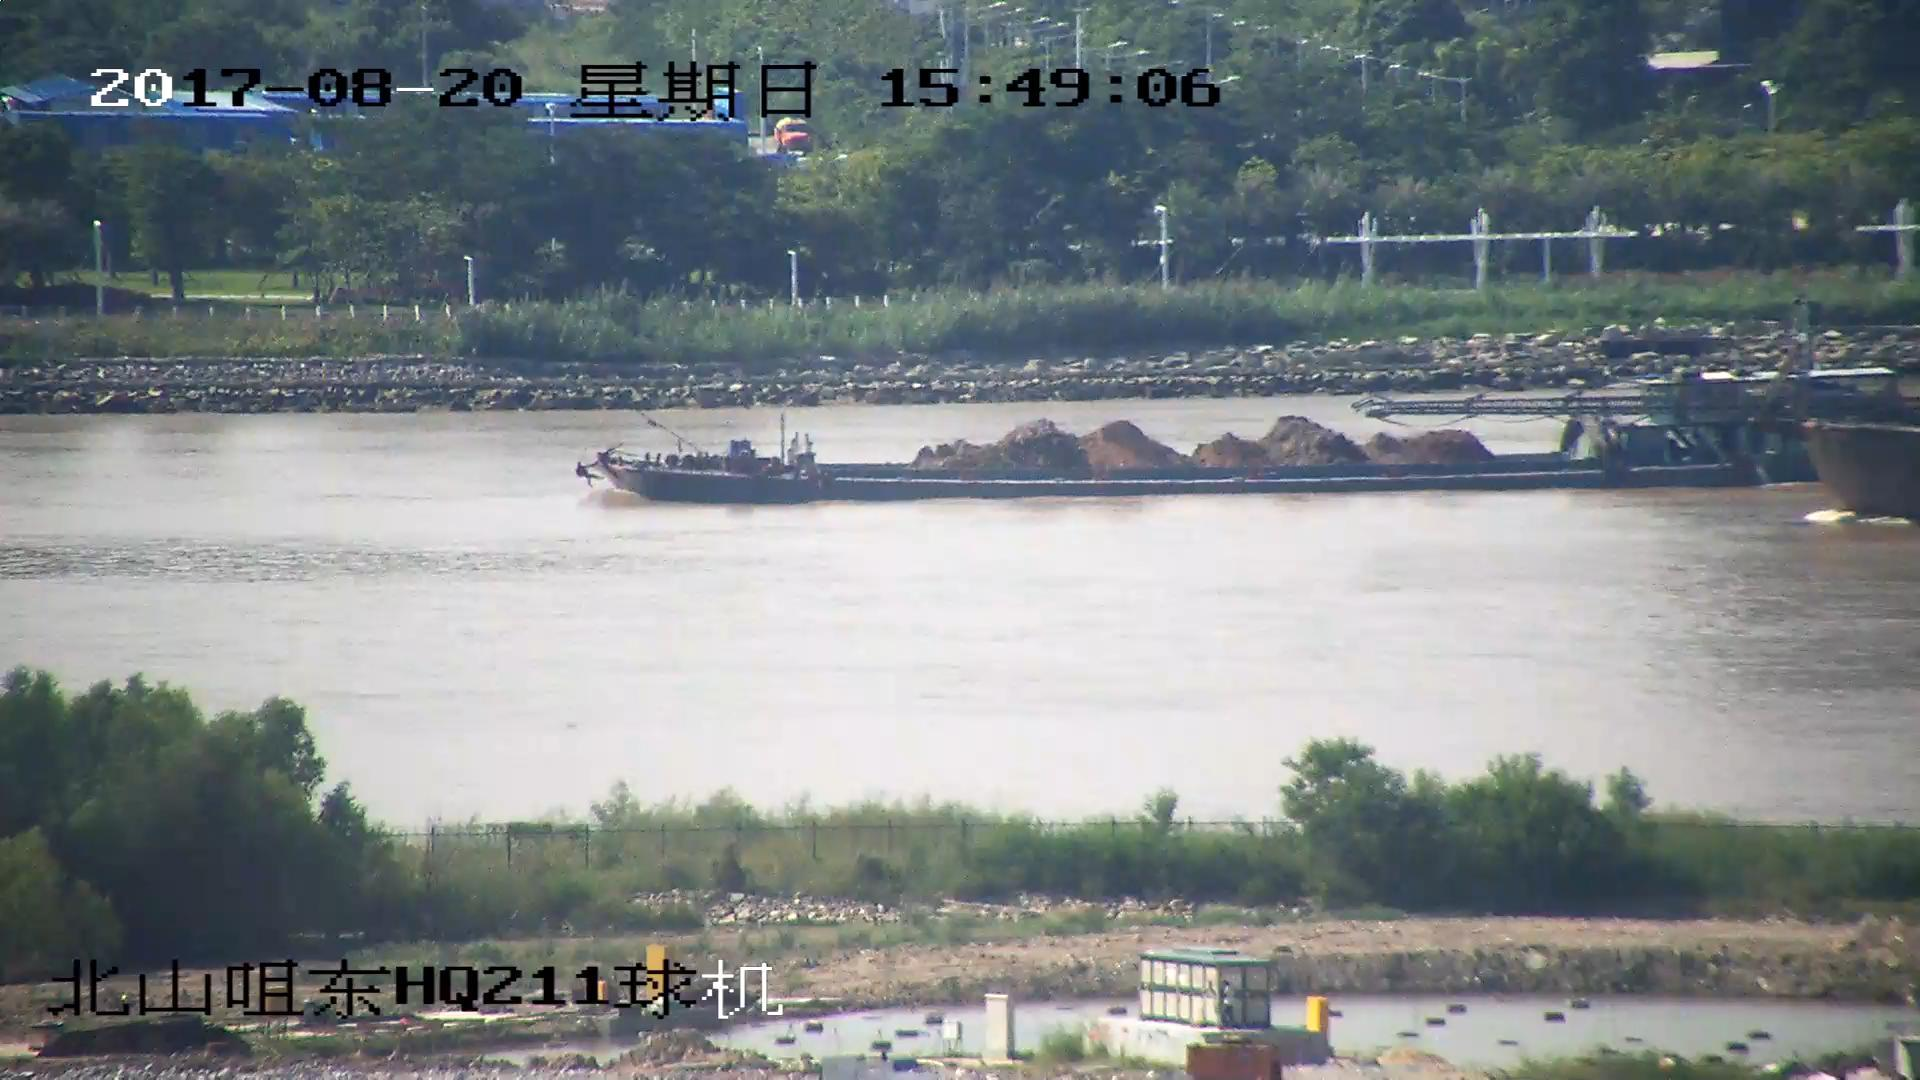Ship: (575, 367, 1898, 506), (1369, 324, 1920, 520)
